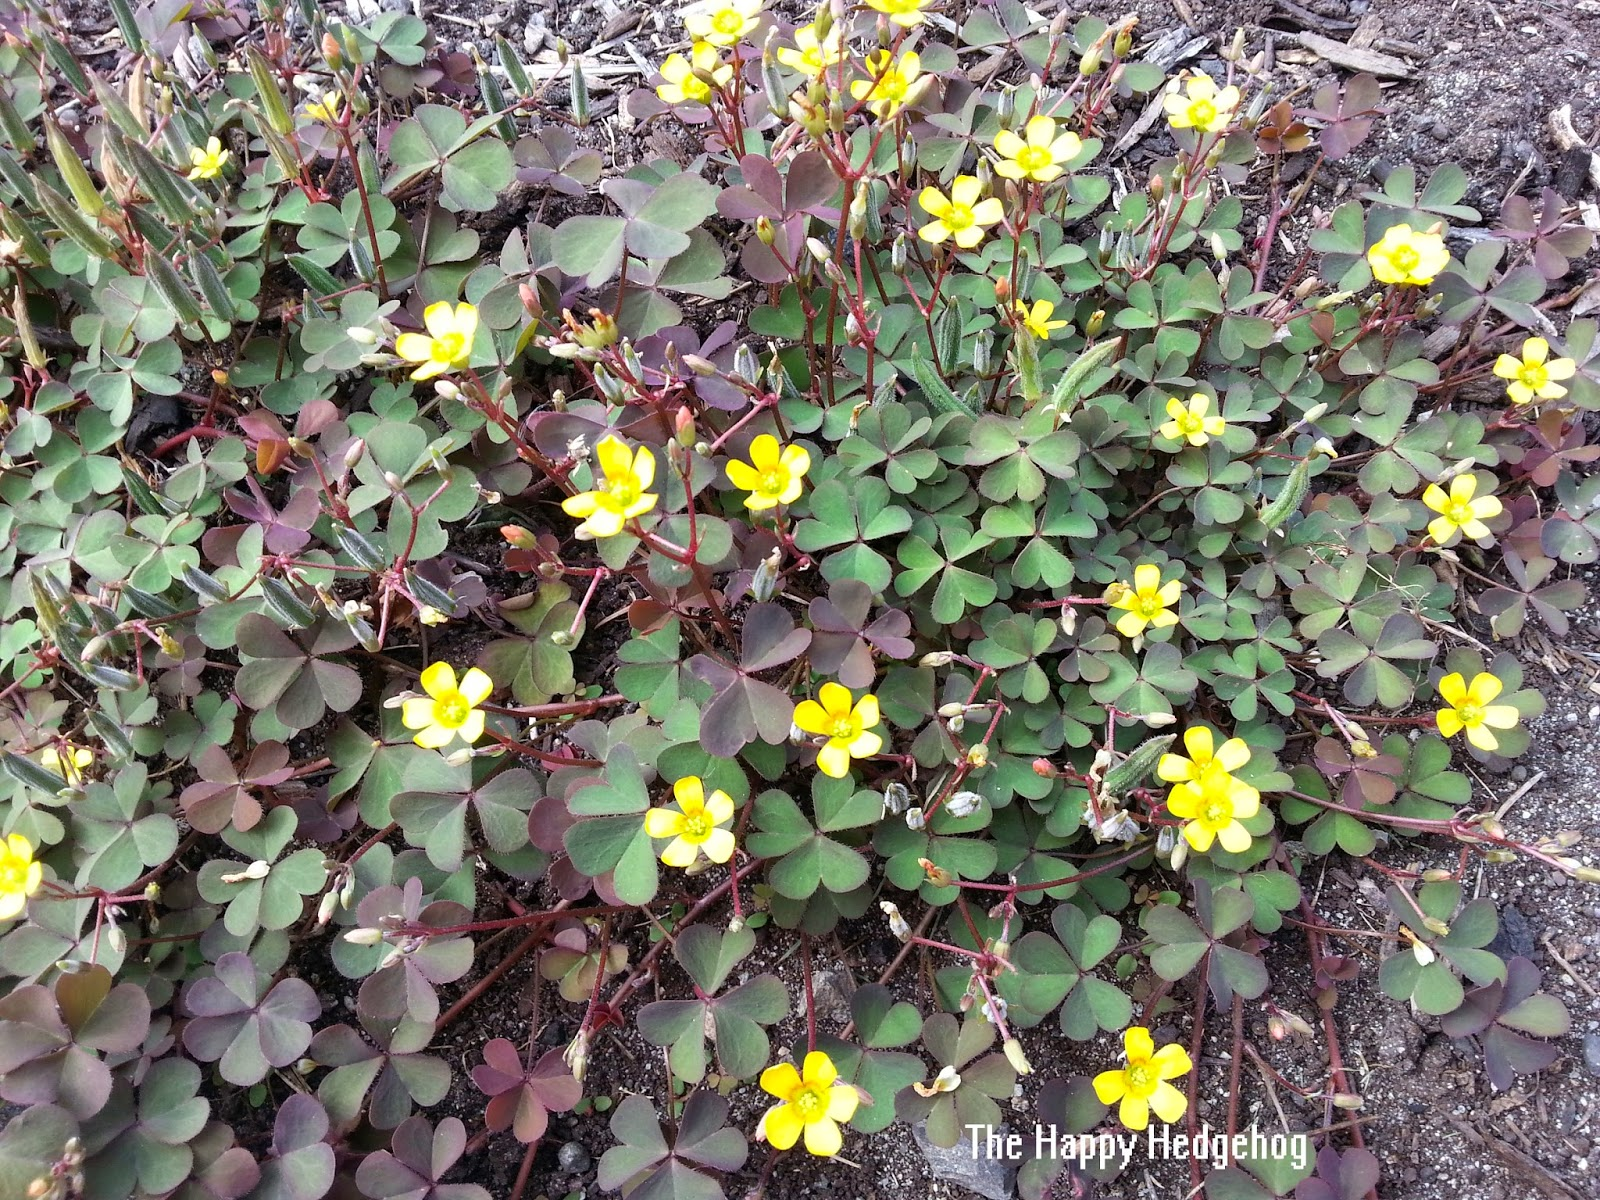oxalis: (682, 120, 1557, 903)
